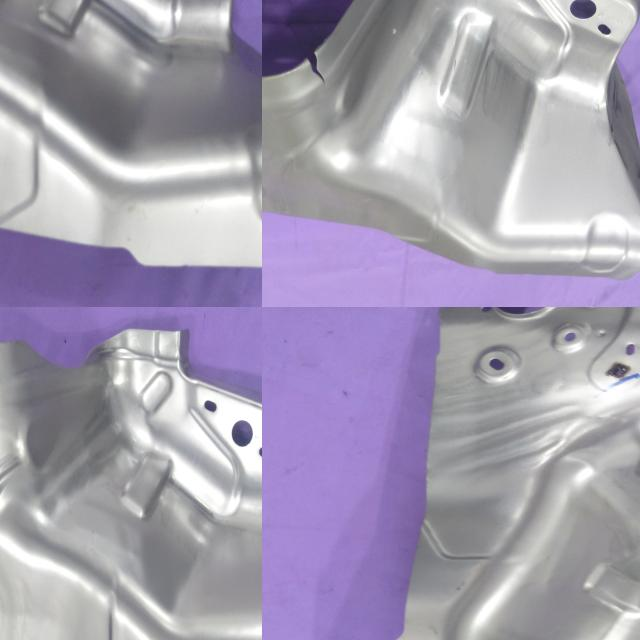Defect: (0, 312, 151, 380), (297, 44, 343, 90)
Healthy: (384, 307, 640, 640)
